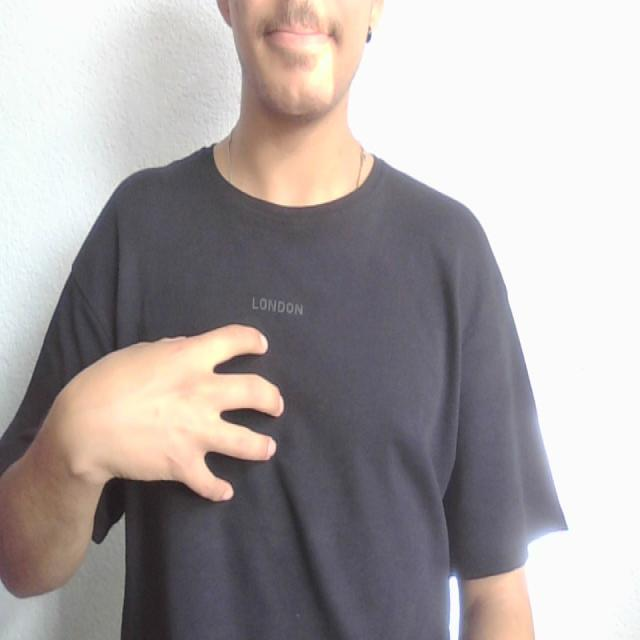Anne: (86, 311, 466, 512)
